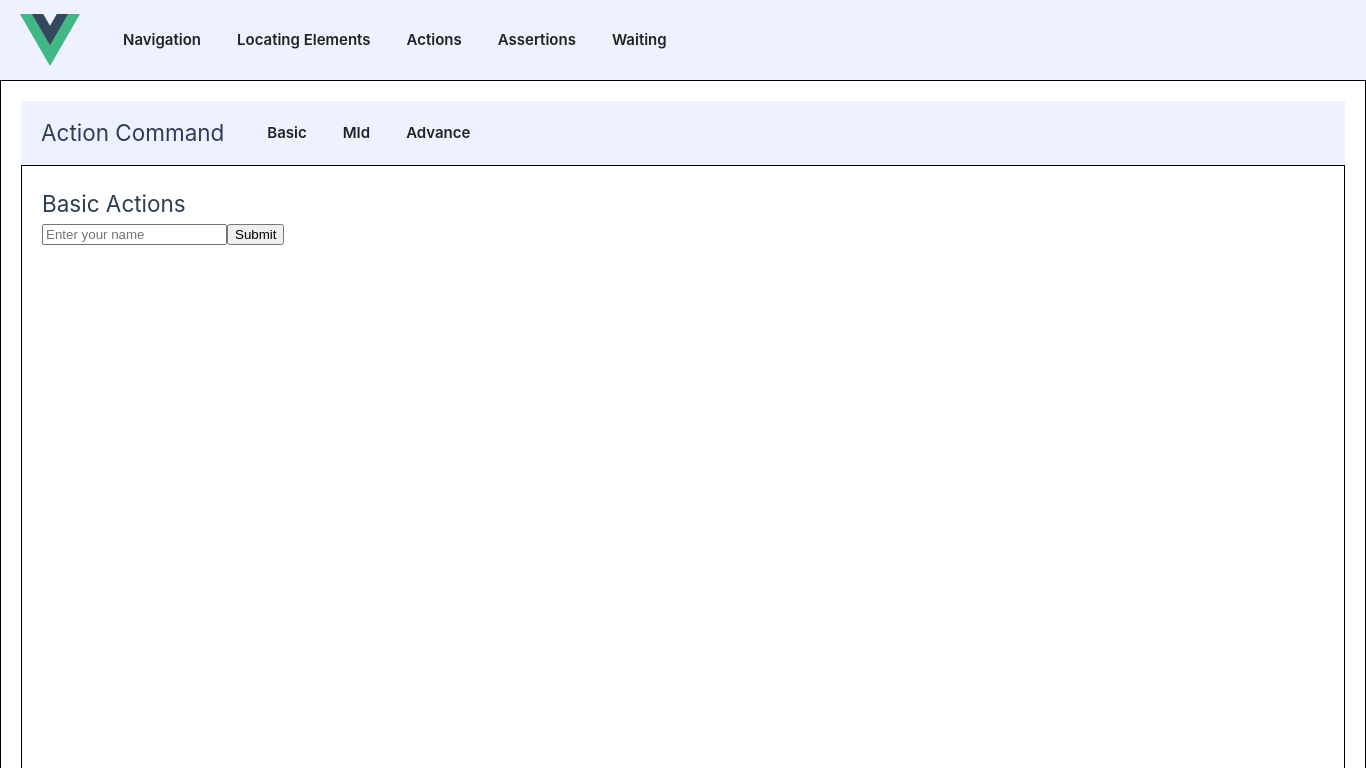
Basic element testing › Type name
expect the heading "Basic Actions" is shown: met, box 42,190 -> 186,217
Type "Sourabha" into the field with class "name-input" at (135, 235), box 42,224 -> 227,245
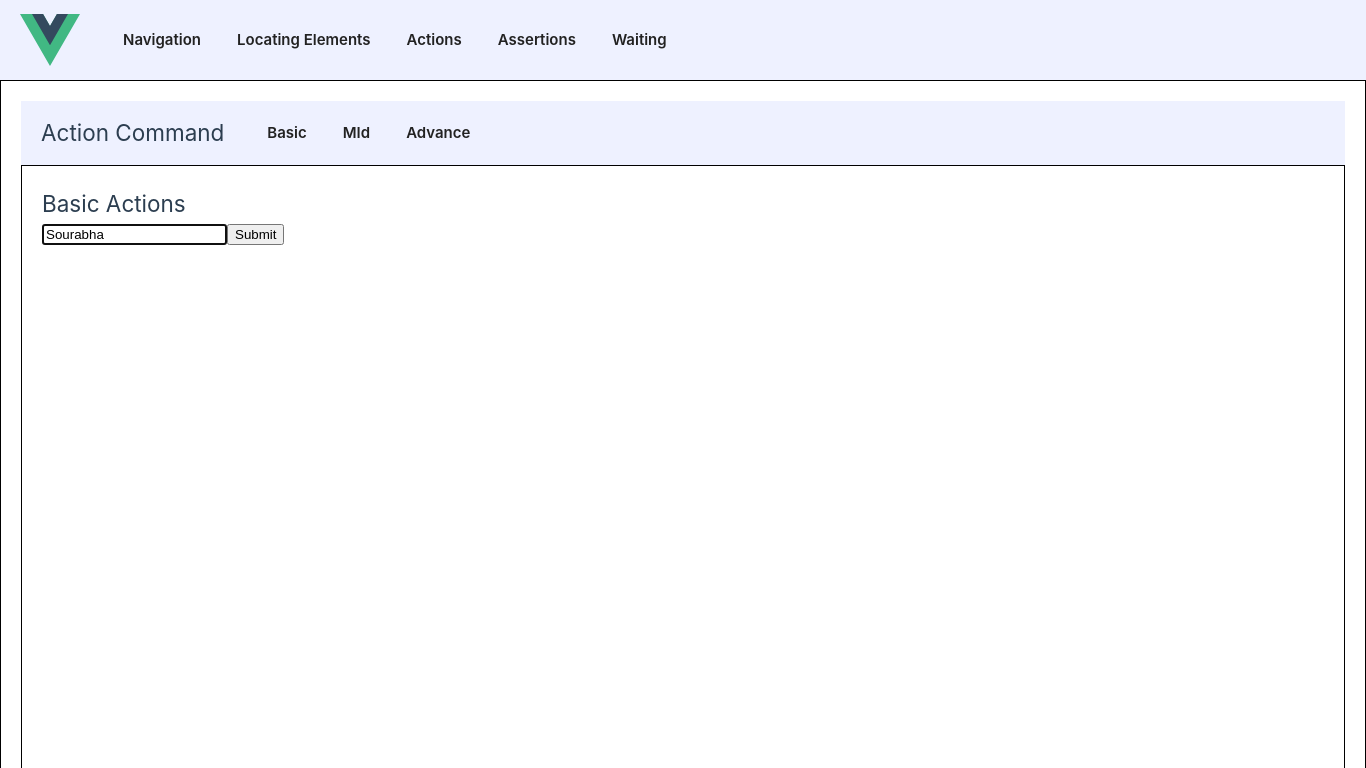
Click the button with class "submit-btn" at (256, 235), box 227,224 -> 285,245
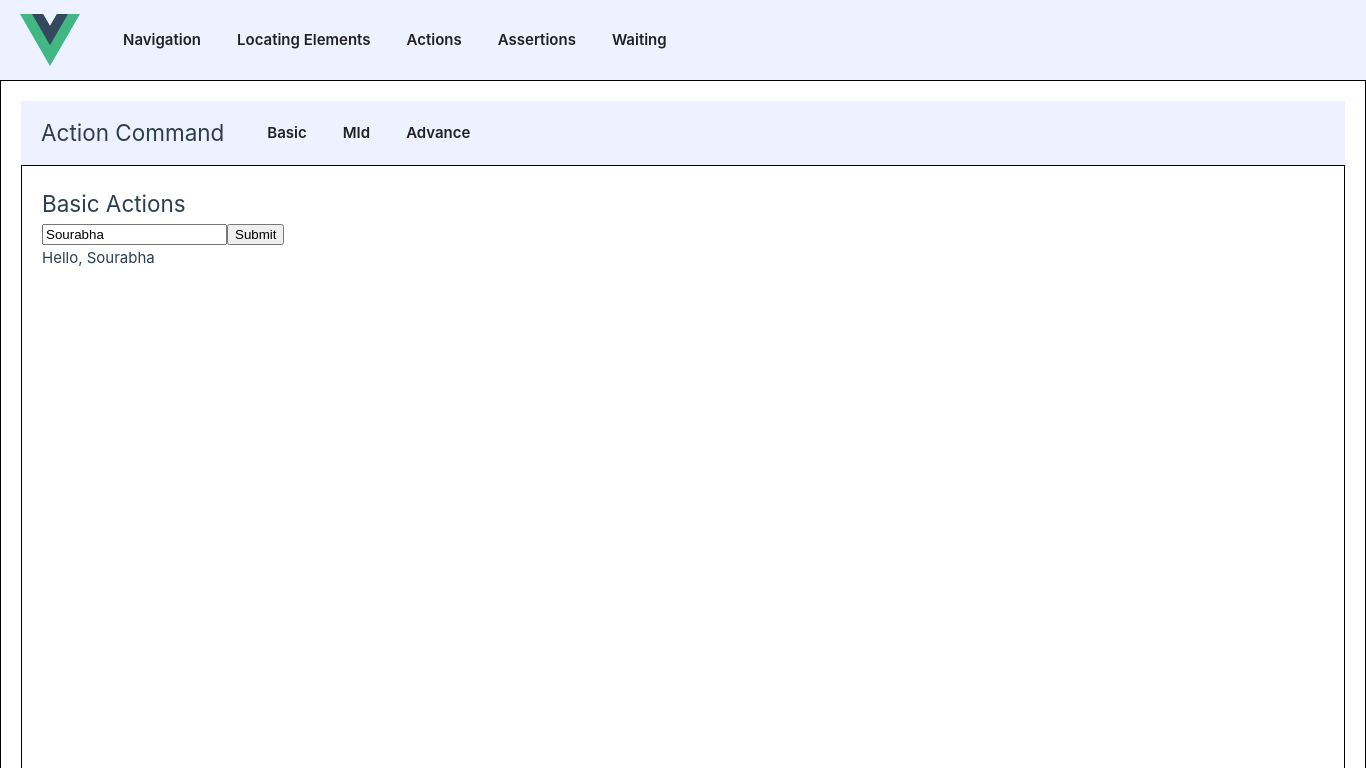
expect the text with class "result" reads "Hello, Sourabha": met, box 42,248 -> 155,267
